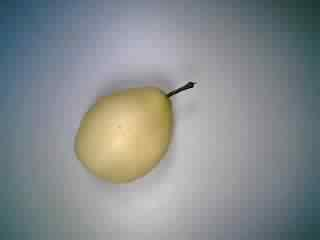pear: (58, 63, 214, 188)
